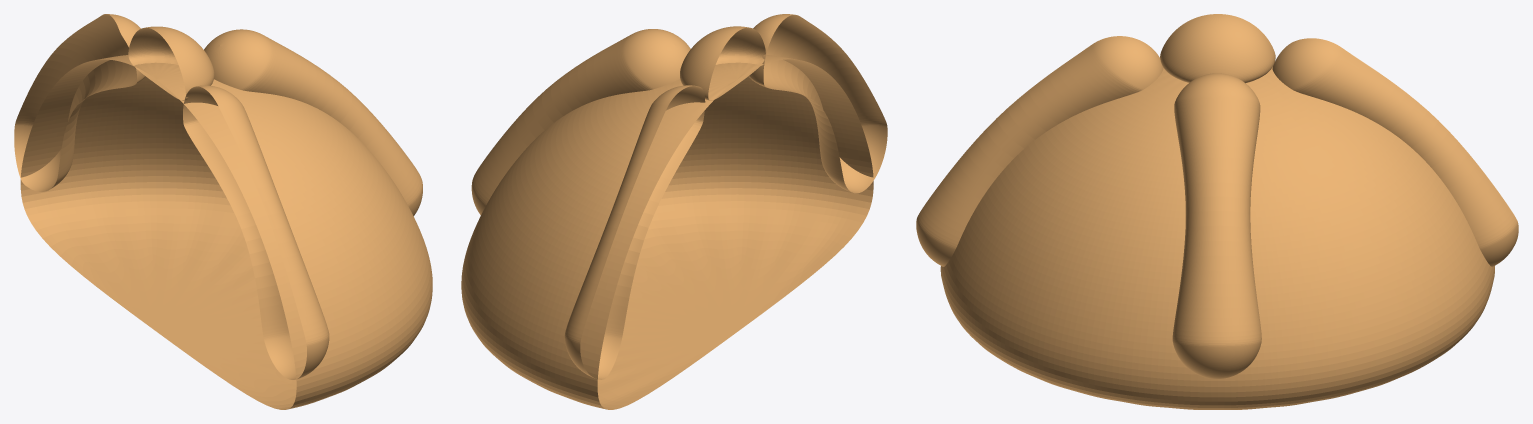
File: PanDeMuerto_2.fbx
3 views of the same model, side by side, from view 1: azimuth 30°, elevation 25°; view 2: azimuth 150°, elevation 25°; view 3: azimuth 270°, elevation 25° (orthographic).
Parts seen in each view (by area): view 1: Base.002, Huesito.005, Huesito.007, Huesito.004, Base.003; view 2: Base.002, Huesito.007, Huesito.005, Huesito.004, Base.003; view 3: Base.002, Huesito.007, Huesito.005, Huesito.004, Base.003.
Boxes of the visible parts, x1=… form: Base.002: x1=20, y1=55, x2=432, y2=409; Huesito.005: x1=183, y1=85, x2=329, y2=379; Huesito.007: x1=204, y1=29, x2=422, y2=215; Huesito.004: x1=14, y1=14, x2=145, y2=191; Base.003: x1=128, y1=26, x2=214, y2=100; Base.002: x1=461, y1=55, x2=873, y2=409; Huesito.007: x1=471, y1=29, x2=690, y2=215; Huesito.005: x1=748, y1=14, x2=887, y2=193; Huesito.004: x1=564, y1=85, x2=705, y2=379; Base.003: x1=680, y1=26, x2=765, y2=100; Base.002: x1=940, y1=67, x2=1494, y2=409; Huesito.007: x1=1172, y1=73, x2=1261, y2=378; Huesito.005: x1=916, y1=36, x2=1163, y2=266; Huesito.004: x1=1272, y1=38, x2=1518, y2=266; Base.003: x1=1160, y1=14, x2=1275, y2=83.
Bounding box in the file's own units: 104 × 115 × 208.
